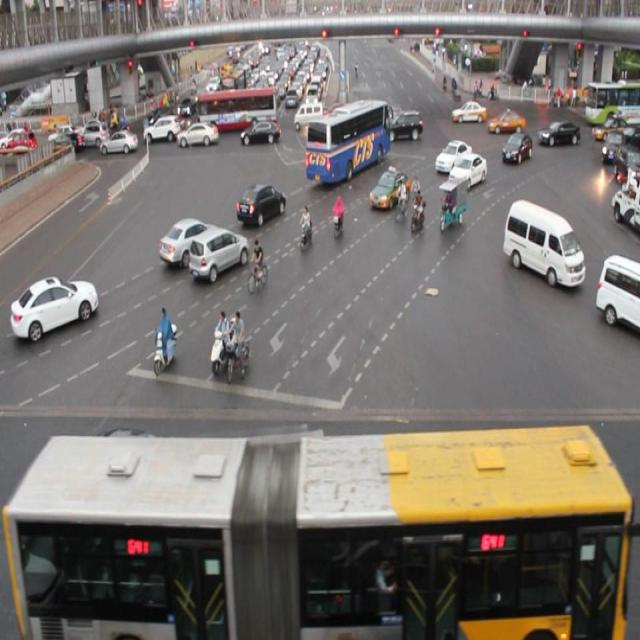car: (67, 428, 192, 521), (11, 272, 98, 336), (190, 226, 250, 278), (158, 217, 218, 262), (236, 182, 286, 221), (368, 167, 408, 209), (175, 119, 218, 149), (434, 138, 471, 170), (450, 156, 486, 187), (538, 120, 578, 147), (500, 130, 530, 165)
truck: (501, 200, 585, 288), (593, 254, 640, 330)
van: (8, 430, 630, 640), (307, 99, 392, 177)
